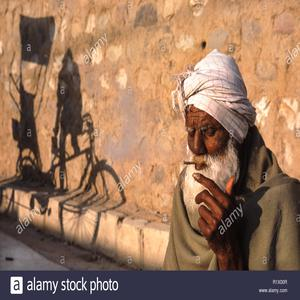cigarette: (182, 158, 198, 166)
